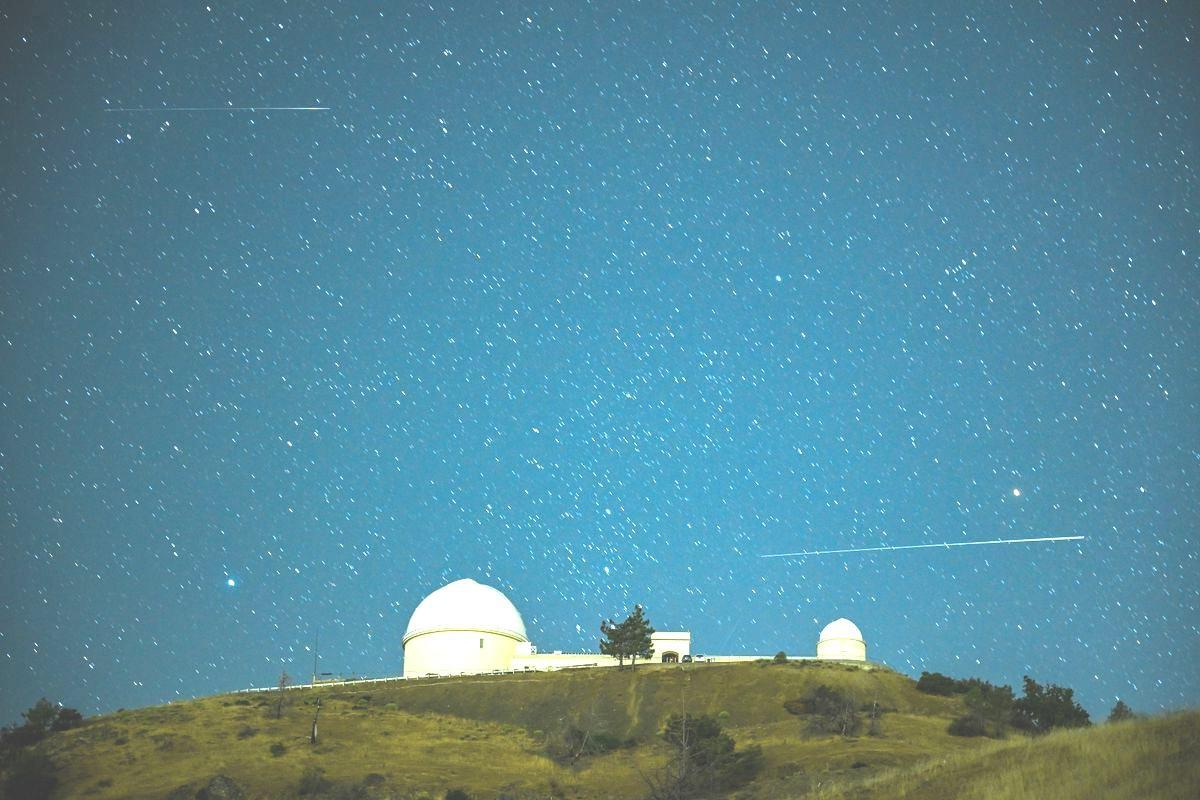meteorite: (747, 517, 1103, 571), (84, 69, 348, 135)
